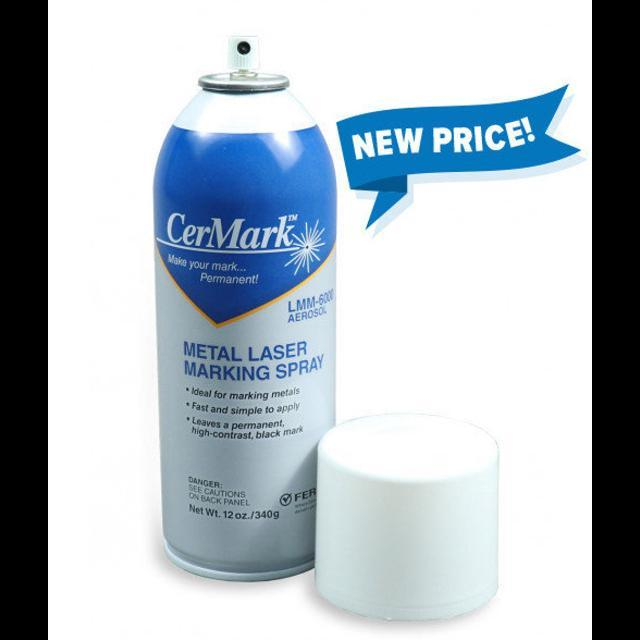chemical_spray_can: (124, 25, 360, 599)
